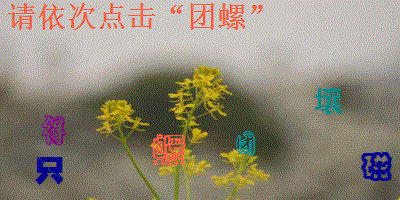result: (187, 1, 249, 33)
text: (149, 132, 187, 167), (359, 150, 394, 183), (312, 85, 345, 116), (40, 113, 68, 148), (35, 155, 66, 184), (233, 129, 259, 159)
